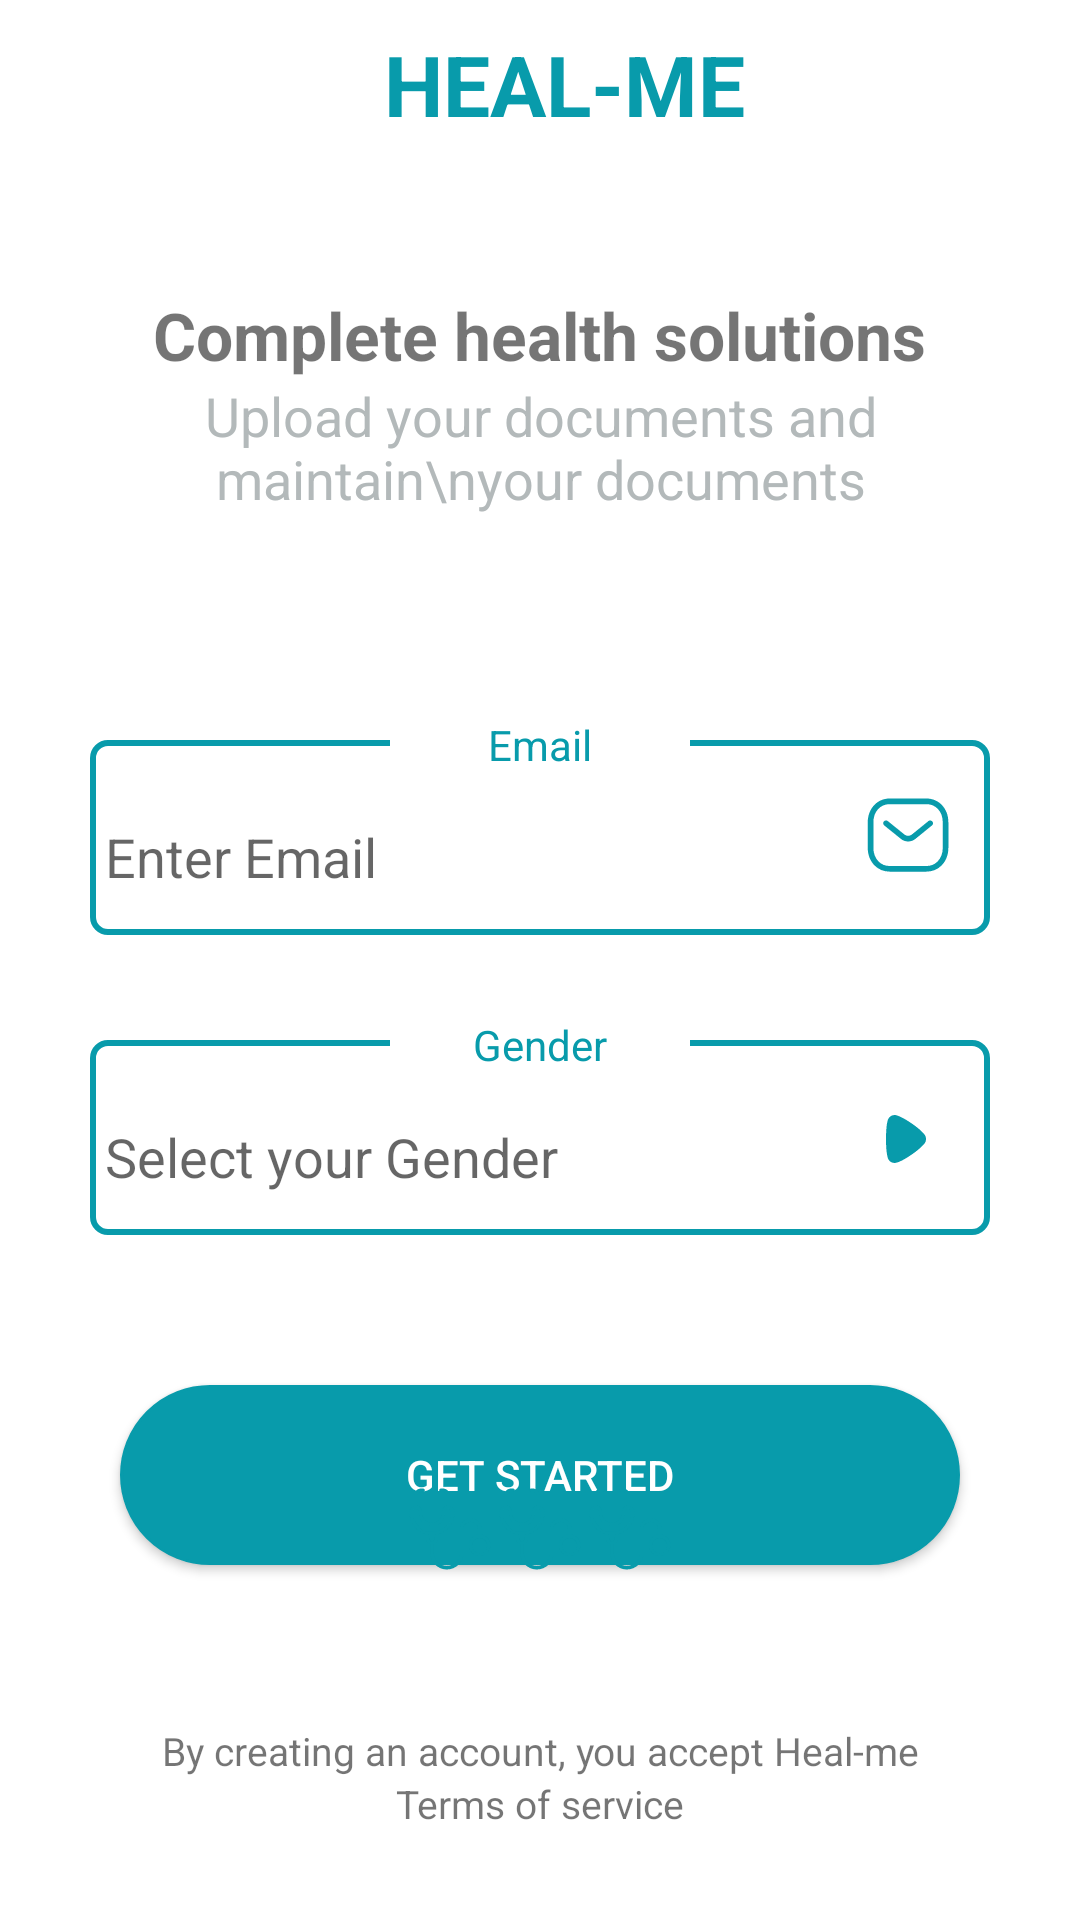

Screen size 1080px x 1920px. Icon name, then its box in pixels as (x1, y1, x2, y2):
arrow short: (886, 1115, 926, 1163)
message: (867, 798, 949, 872)
